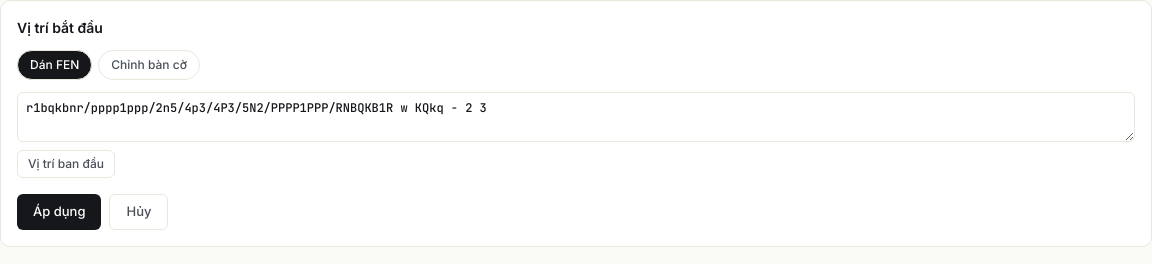
Test: BoardEditor › FEN tab › resets to standard position when Reset button is clicked
Click the button with test id "board-editor-reset".
click(66, 164)  # box [17, 150, 115, 178]
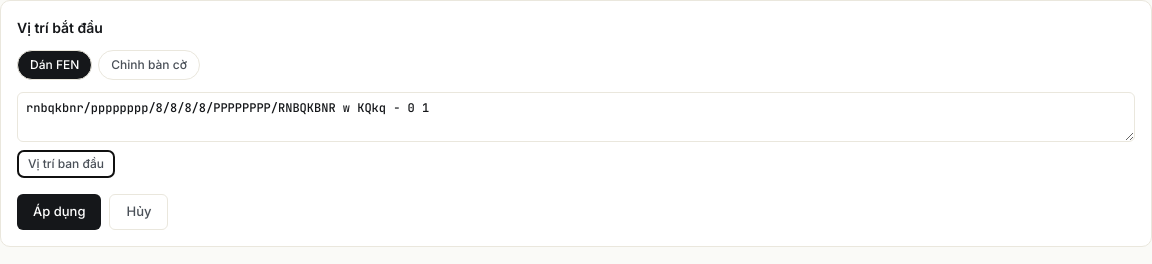
Expected: the text box with test id "board-editor-fen-input" holds "rnbqkbnr/pppppppp/8/8/8/8/PPPPPPPP/RNBQKBNR w KQkq - 0 1", [17, 92, 1135, 142]
